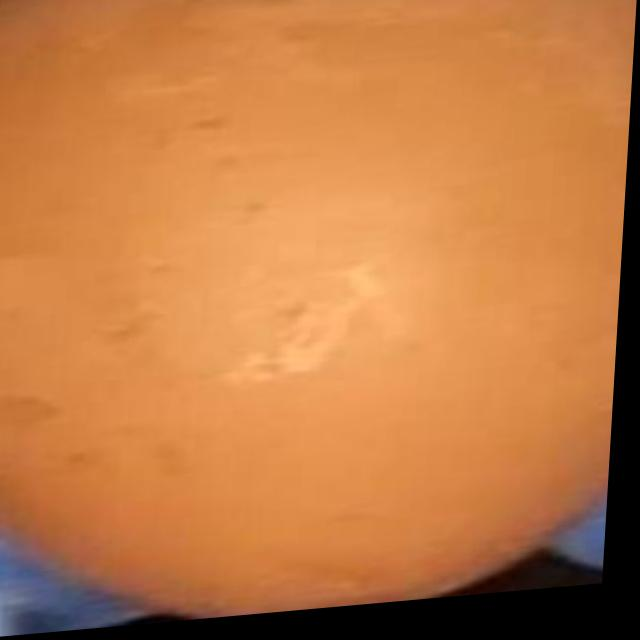unfresh: (0, 0, 640, 638)
